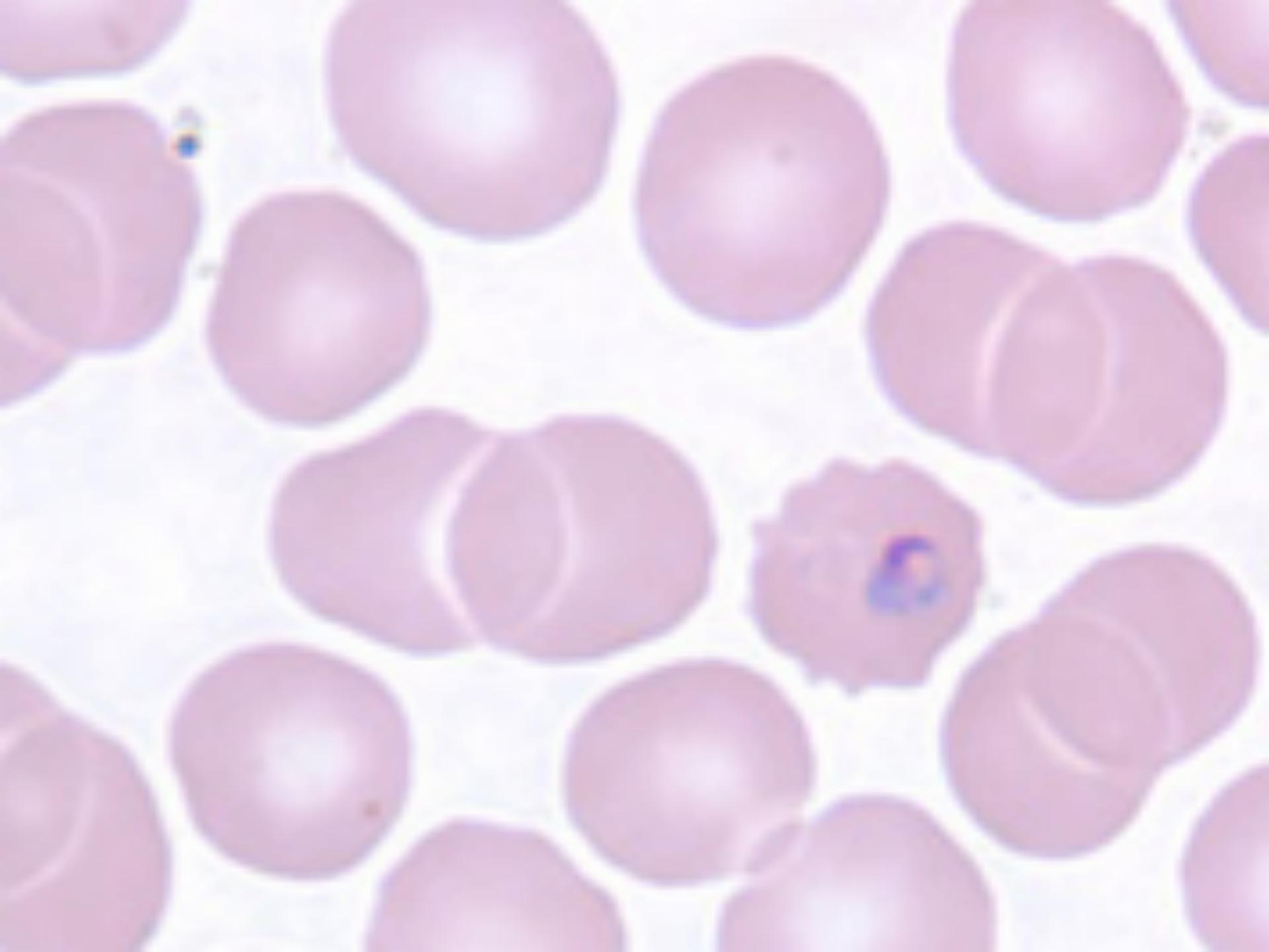Infected: (749, 459, 985, 694)
Uninfected: (268, 410, 566, 657), (317, 0, 616, 241), (443, 414, 715, 664), (638, 53, 886, 325), (986, 261, 1229, 507), (863, 225, 1114, 463), (165, 647, 411, 880), (203, 189, 435, 430), (562, 663, 812, 885), (940, 622, 1173, 857), (1018, 542, 1257, 770), (945, 0, 1187, 220), (0, 96, 197, 356), (714, 792, 993, 952), (0, 719, 171, 952), (364, 817, 628, 952)
